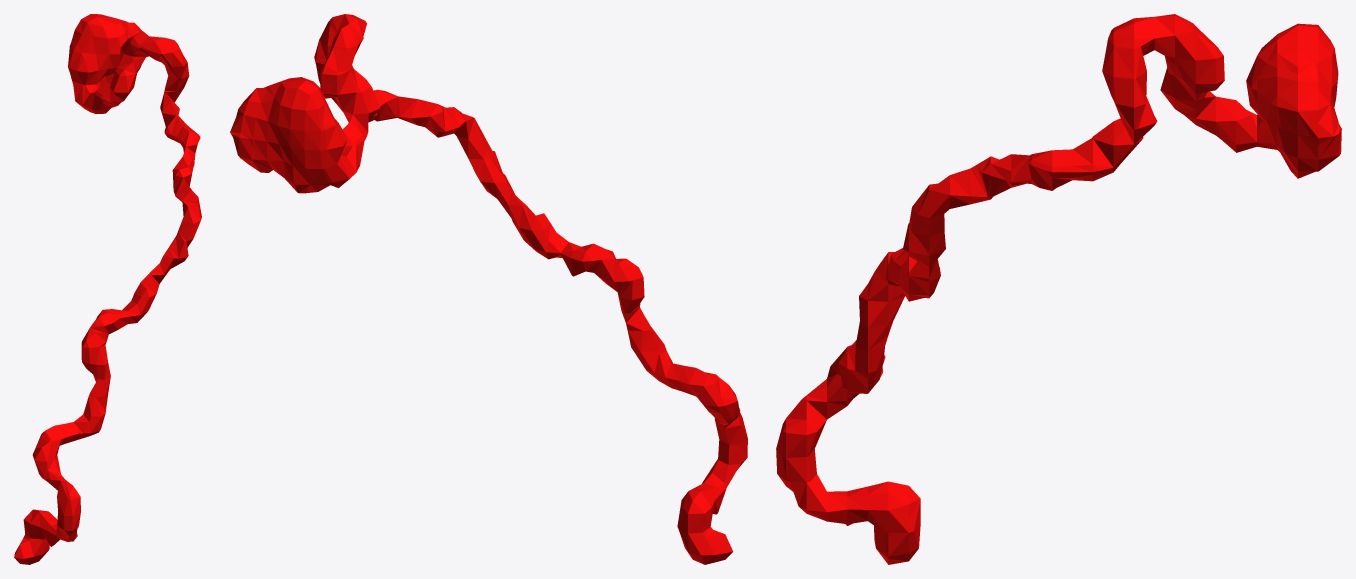
File: dedD_coarse.dae
3 views of the same model, side by side, from view 1: azimuth 30°, elevation 25°; view 2: azimuth 150°, elevation 25°; view 3: azimuth 270°, elevation 25° (orthographic). The views are drawn at different scales.
Parts seen in each view (by area): view 1: dedD; view 2: dedD; view 3: dedD.
Part boxes in pixels (x1=…): dedD: x1=14, y1=14, x2=201, y2=564; dedD: x1=230, y1=14, x2=747, y2=564; dedD: x1=776, y1=14, x2=1341, y2=564.
Size of the model in its own units: 124 by 197 by 143.
